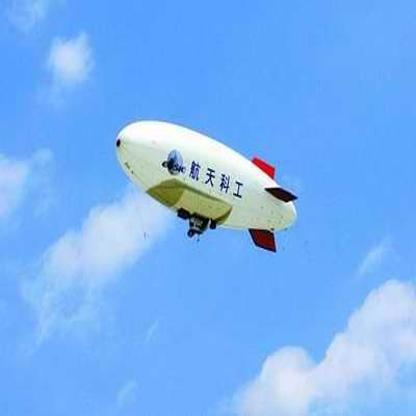Airship: (109, 114, 305, 255)
